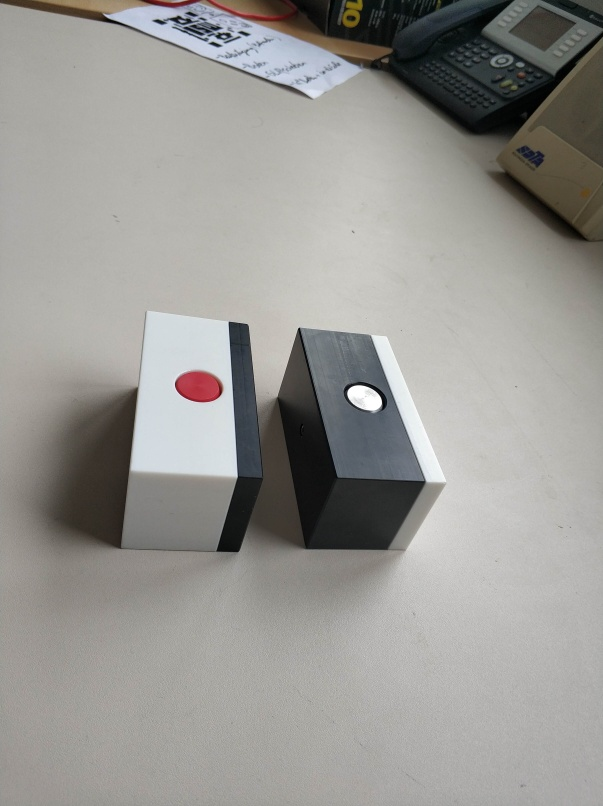black+white+red: (117, 307, 269, 554)
white+black+silver: (276, 324, 451, 553)
